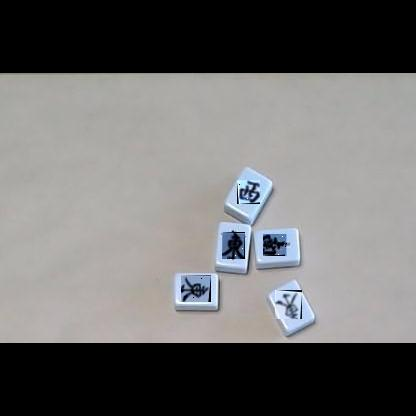1z: (181, 275, 211, 302), (275, 290, 302, 319), (222, 232, 245, 259)
2z: (264, 234, 290, 256)
3z: (237, 180, 260, 204)
